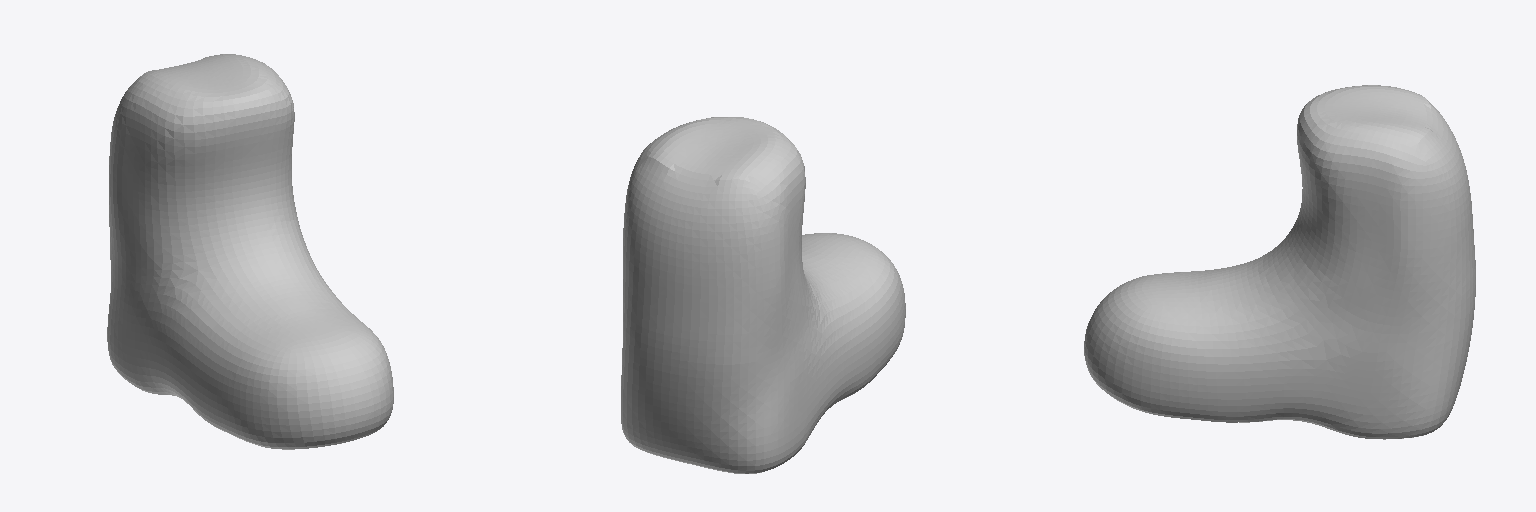
Rendered from Shoe(rough).obj.
3 views of the same model, side by side, from view 1: azimuth 30°, elevation 25°; view 2: azimuth 150°, elevation 25°; view 3: azimuth 270°, elevation 25° (orthographic).
Visible parts, largest first — view 1: polySurface1 Cass_Accesory__1_2:Group4694; view 2: polySurface1 Cass_Accesory__1_2:Group4694; view 3: polySurface1 Cass_Accesory__1_2:Group4694.
Part boxes in pixels (left/top/right/bottom): polySurface1 Cass_Accesory__1_2:Group4694: left=107, top=54, right=393, bottom=449; polySurface1 Cass_Accesory__1_2:Group4694: left=621, top=117, right=905, bottom=473; polySurface1 Cass_Accesory__1_2:Group4694: left=1084, top=85, right=1475, bottom=439.
Size of the model in its own units: 3.56 by 6.37 by 7.56.